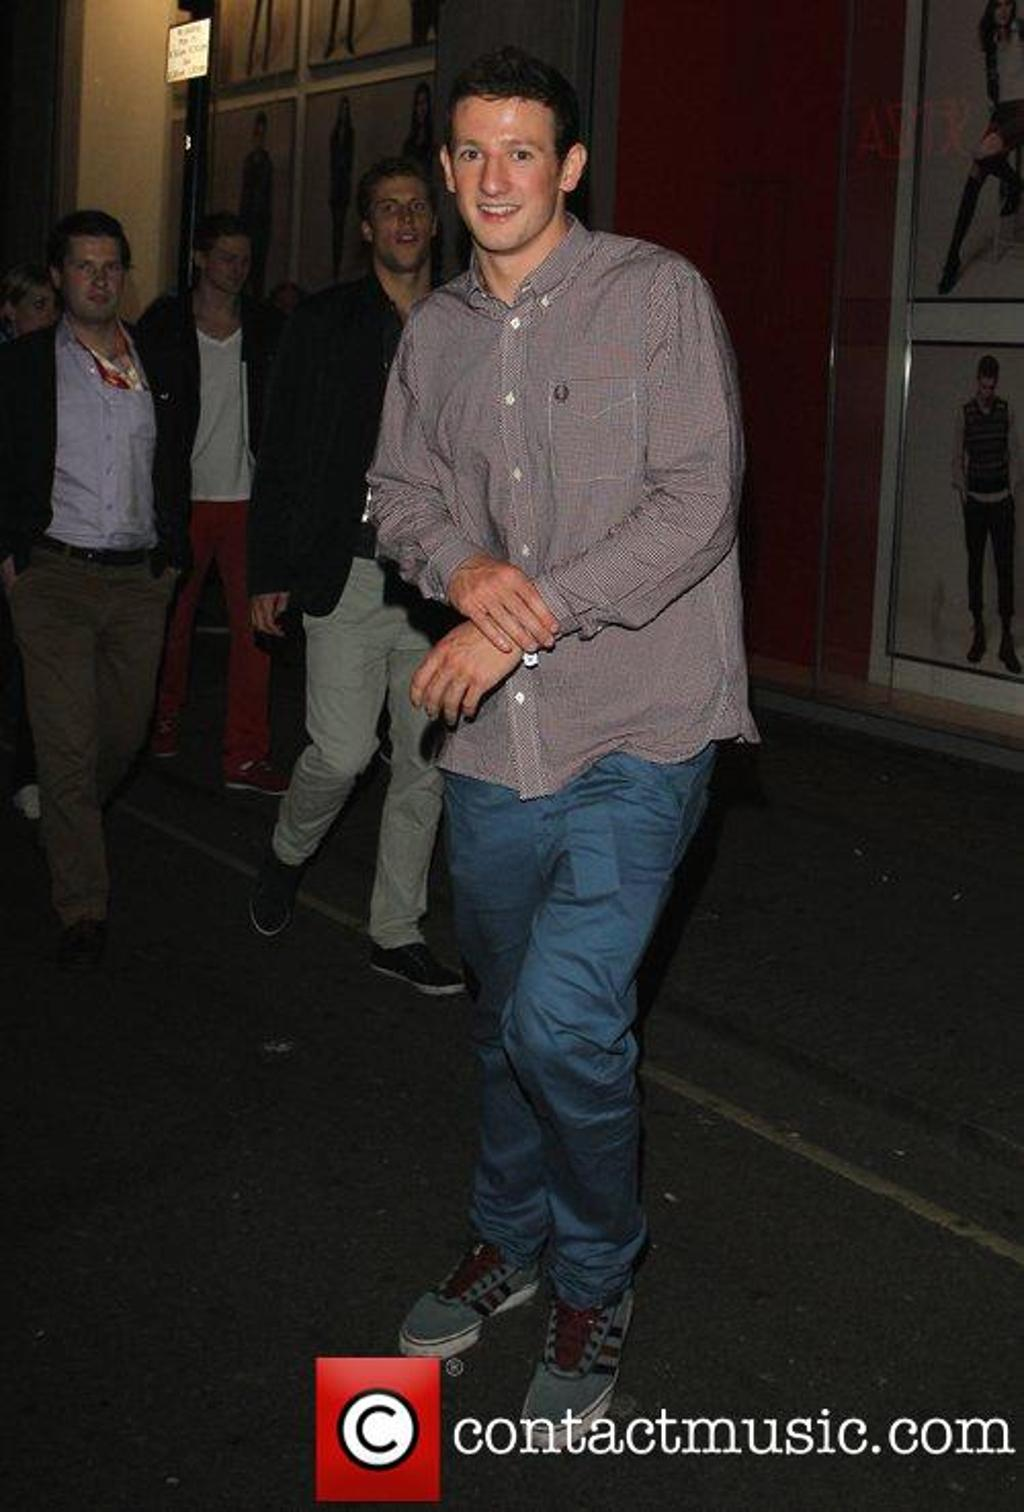face: (450, 96, 560, 251), (371, 175, 431, 269), (64, 235, 121, 321), (207, 235, 251, 294), (25, 282, 67, 340)
